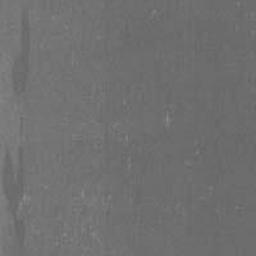Oil spot: (1, 115, 29, 252), (10, 0, 38, 105)
